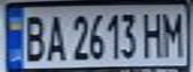1: (106, 10, 124, 60)
2: (66, 10, 90, 62)
3: (118, 10, 142, 60)
6: (87, 10, 109, 61)
A: (42, 11, 69, 63)
B: (18, 10, 48, 63)
H: (139, 9, 166, 58)
M: (160, 8, 190, 57)
